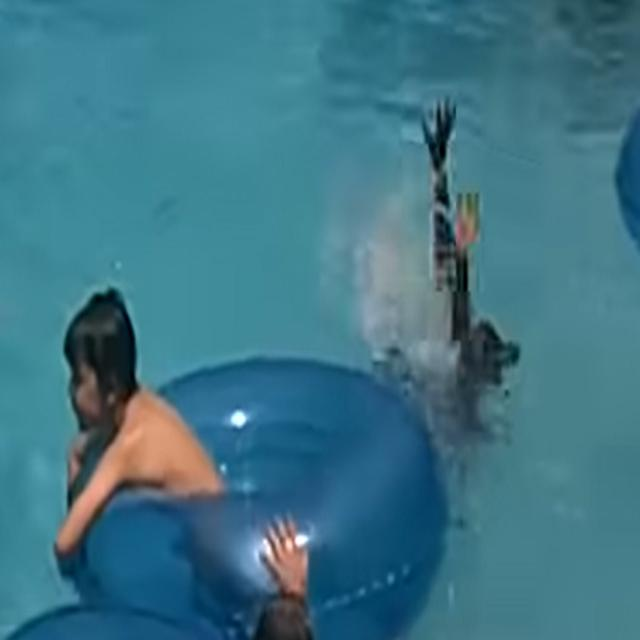Drowning: (406, 80, 524, 397)
Swimming: (54, 284, 226, 564)
